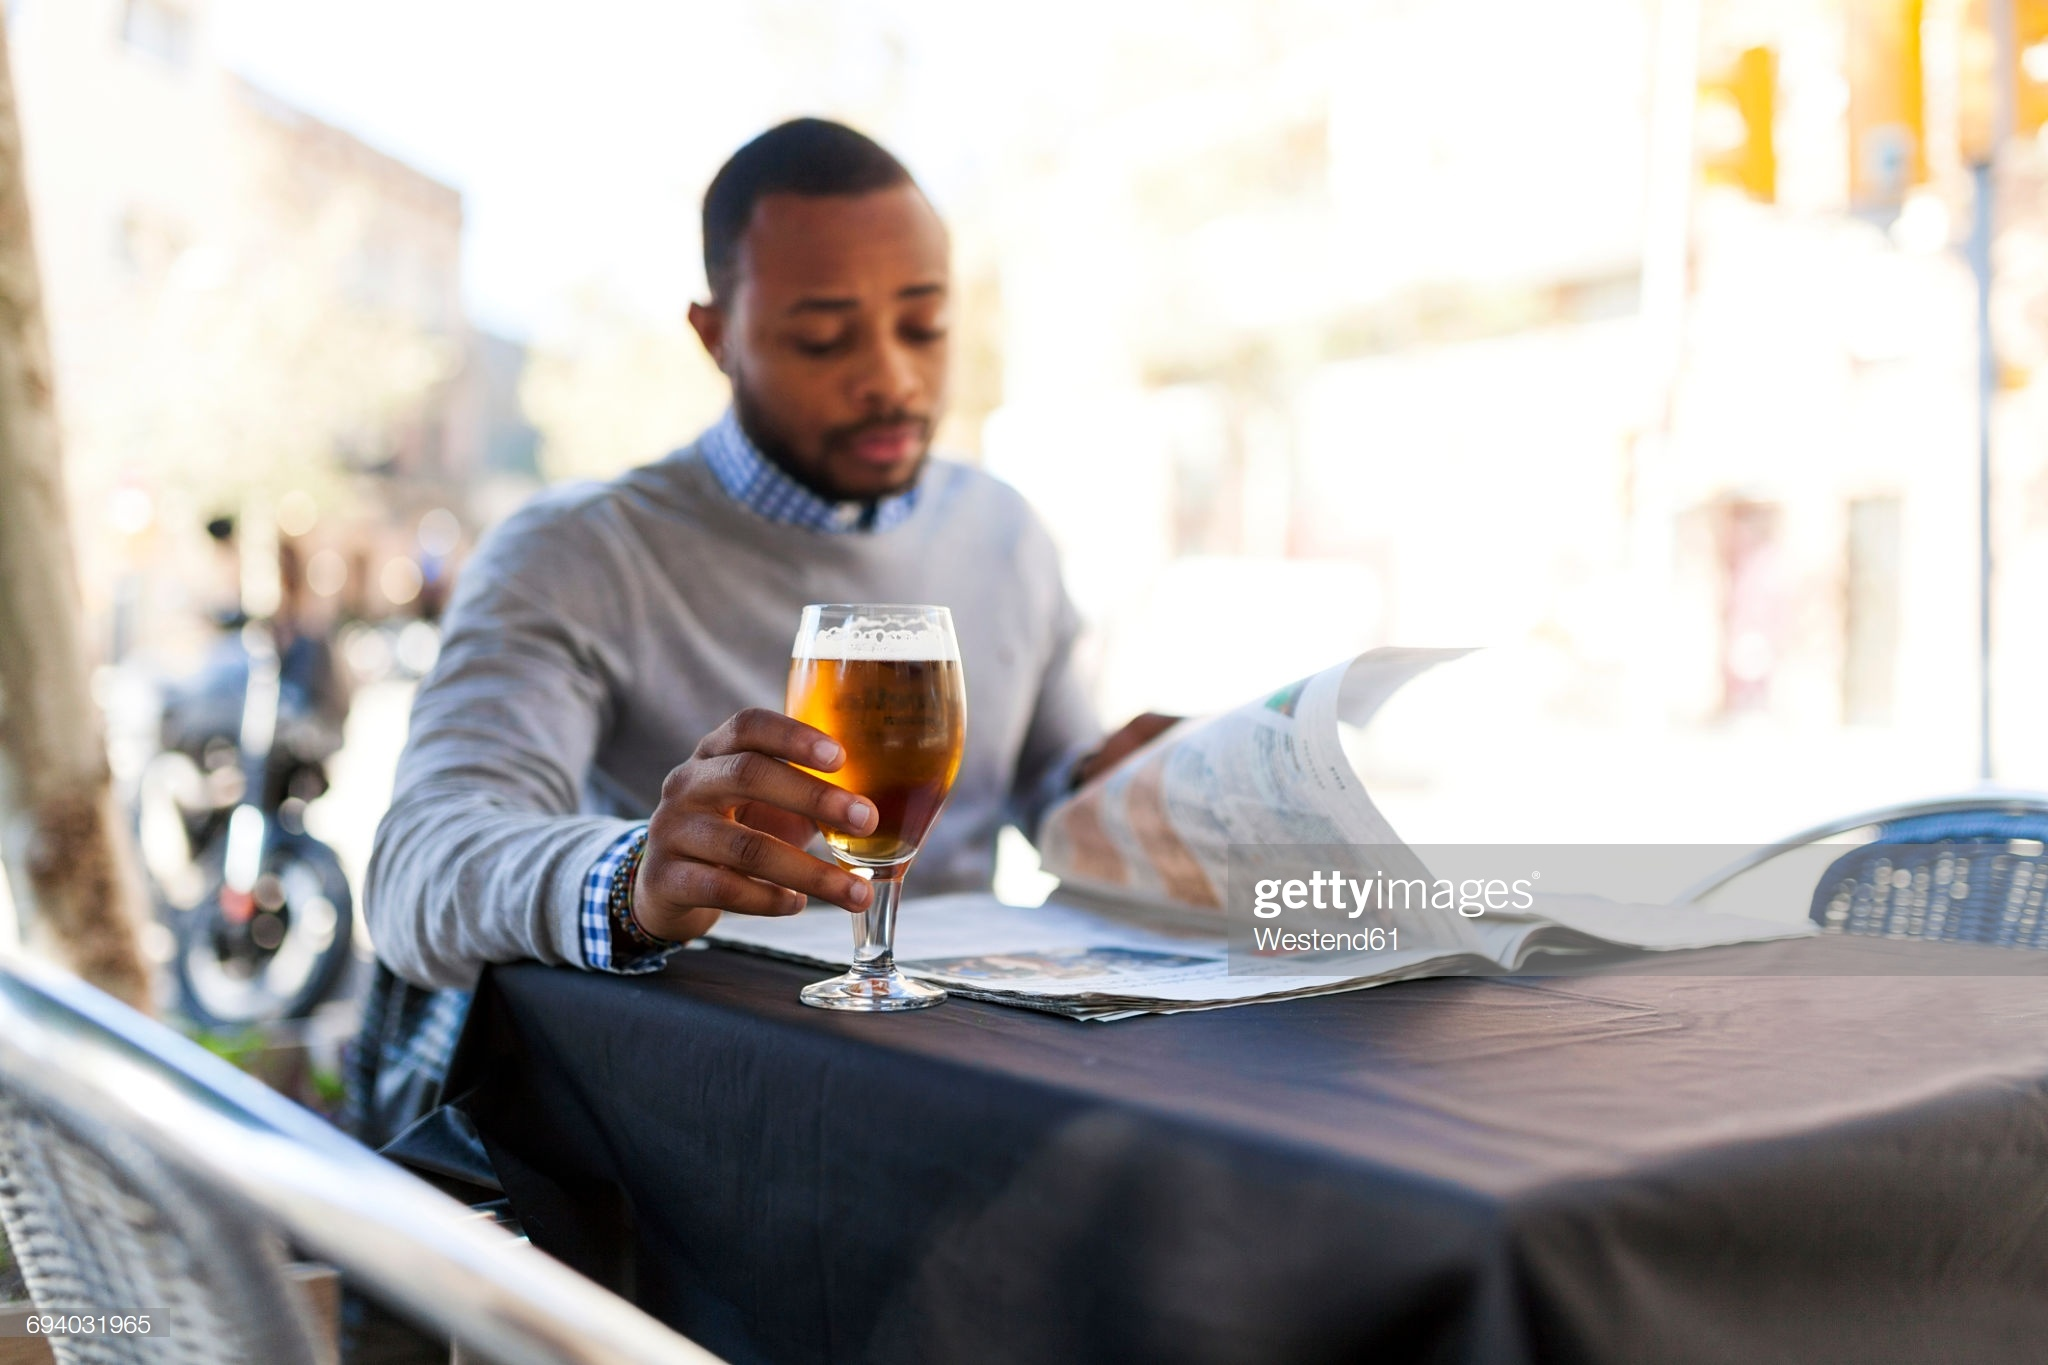glassBeer: (769, 602, 985, 1033)
